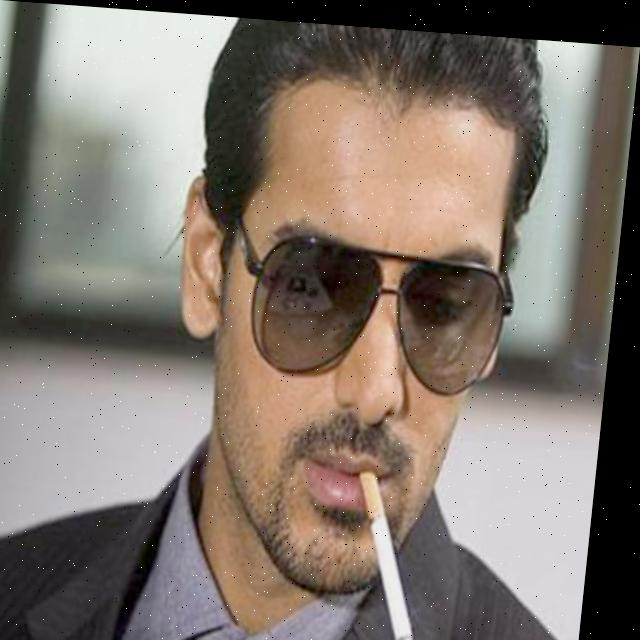cigarette: (356, 462, 447, 640)
